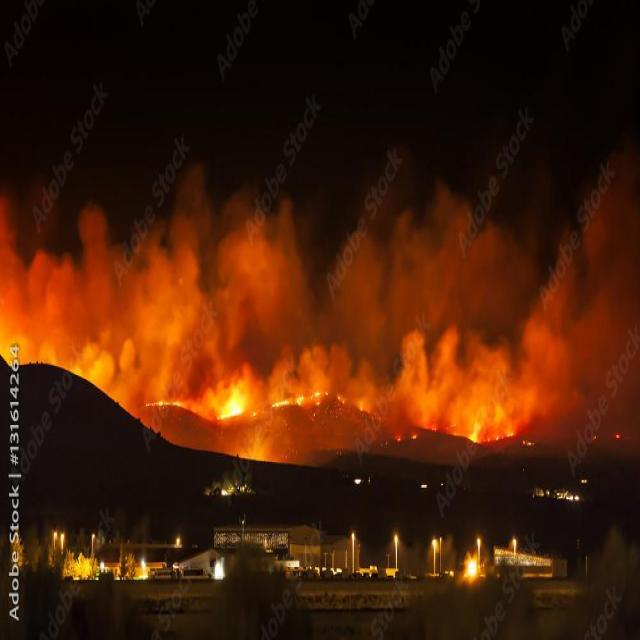Fire: (174, 356, 360, 460), (388, 356, 524, 447), (62, 552, 98, 580)
Smoke: (320, 193, 630, 344), (50, 177, 288, 354)
